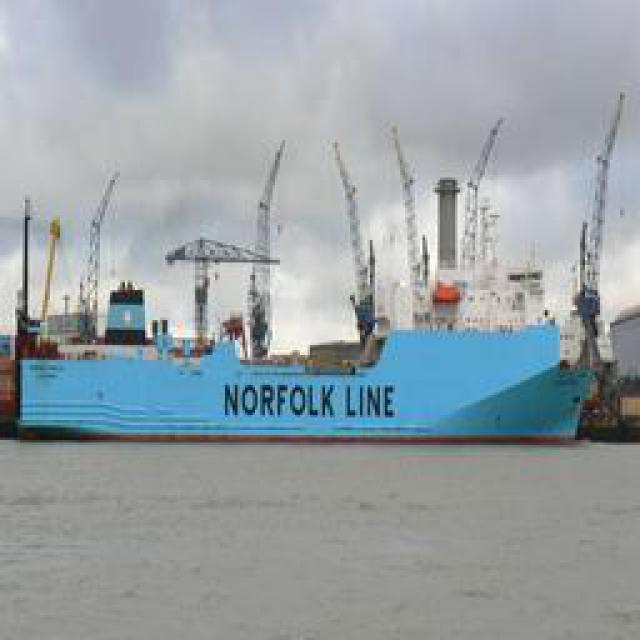Ship: (15, 120, 593, 440)
